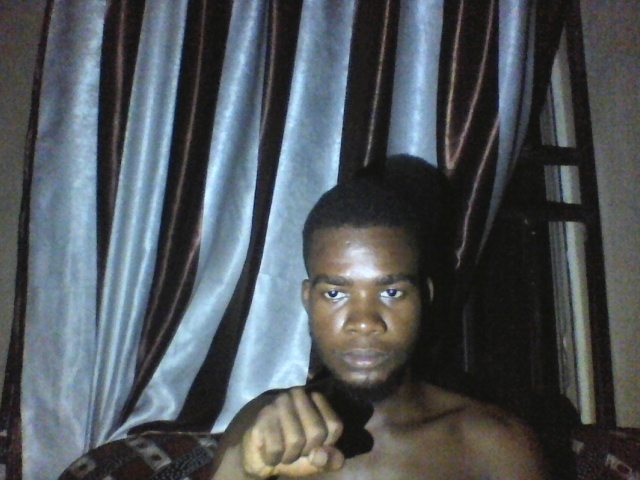yes: (229, 368, 363, 480)
